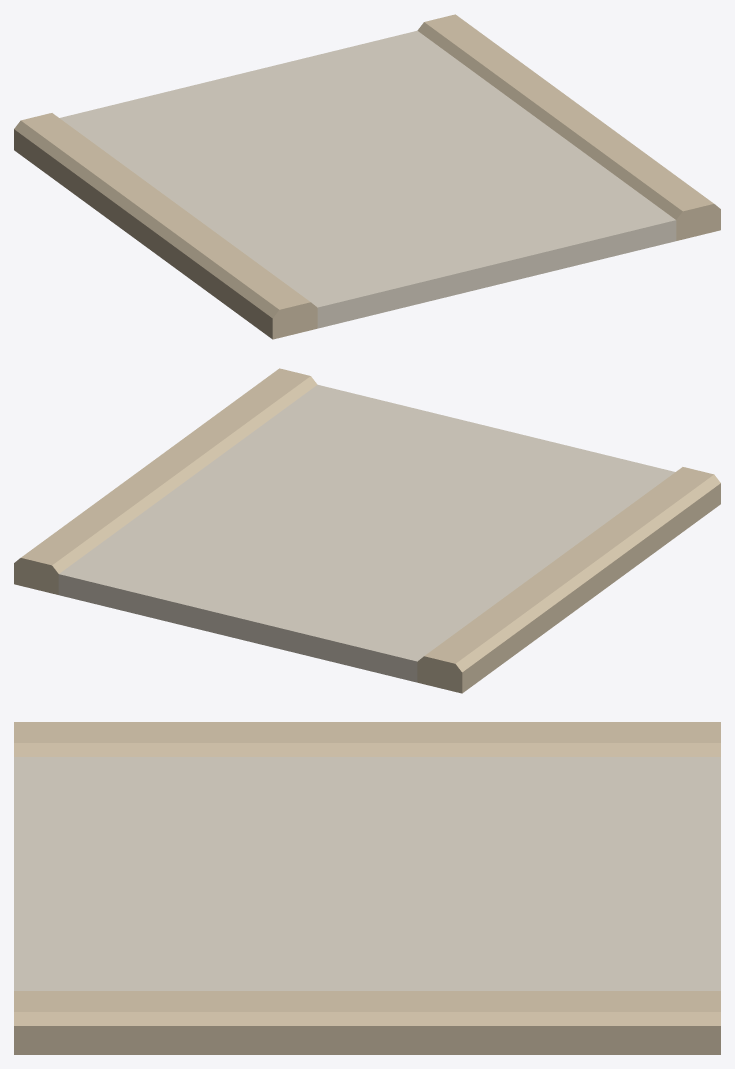
The model's file is path.glb.
3 renders of one model, top to bottom at view 1: azimuth 30°, elevation 25°; view 2: azimuth 150°, elevation 25°; view 3: azimuth 270°, elevation 25°, orthographic. The views are drawn at different scales.
Parts seen in each view (by area): view 1: path; view 2: path; view 3: path.
Boxes of the visible parts, box(x1,y1,x2,y2) form: path: box(14, 14, 720, 339); path: box(14, 368, 720, 693); path: box(14, 722, 720, 1054).
Bounding box in the file's own units: 1 × 0.06 × 1.
